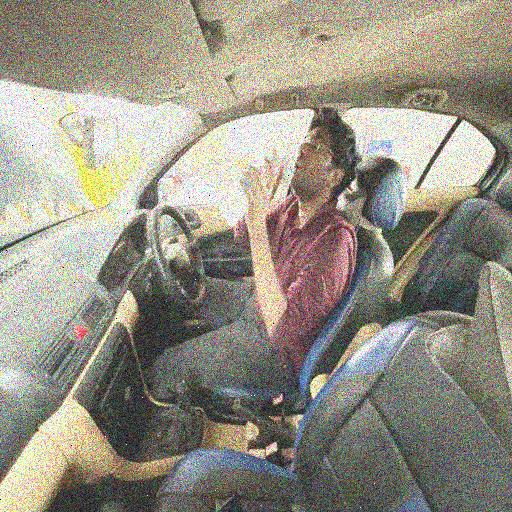Drinking: (207, 101, 366, 351)
